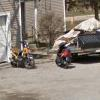Motorcycle: (7, 38, 39, 72)
